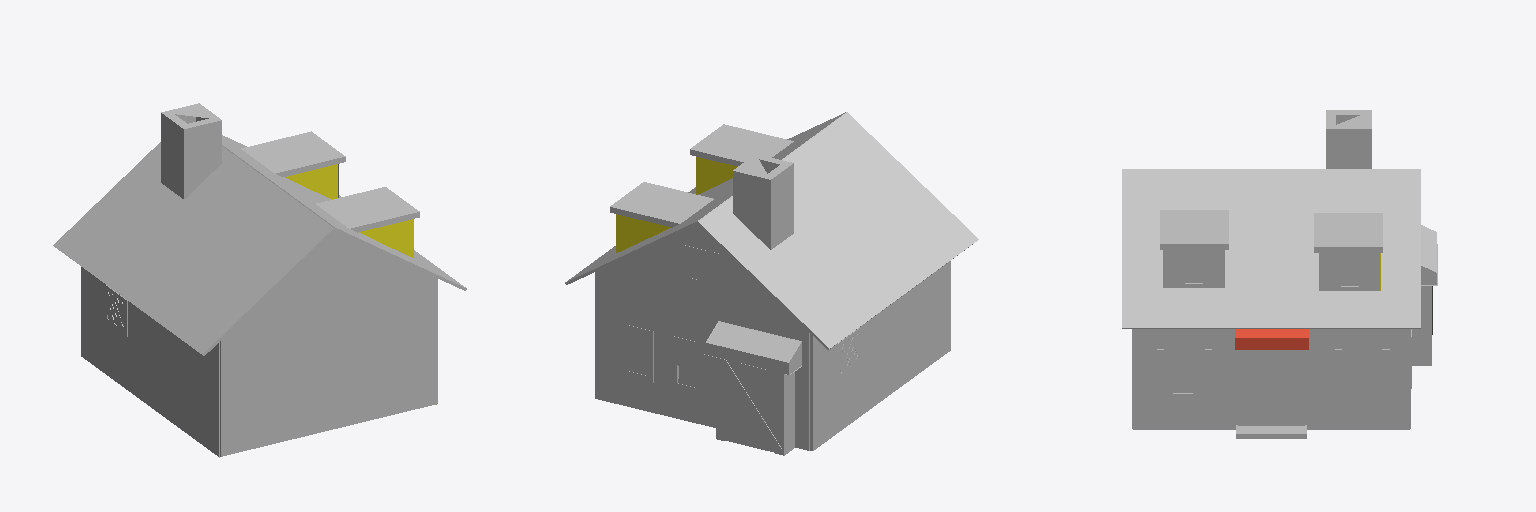
3 views of the same model, side by side, from view 1: azimuth 30°, elevation 25°; view 2: azimuth 150°, elevation 25°; view 3: azimuth 270°, elevation 25° (orthographic).
Parts seen in each view (by area): view 1: polySurface864; view 2: polySurface864; view 3: polySurface864.
Boxes of the visible parts, x1,y1,x2,y2 form: polySurface864: [53, 103, 466, 457]; polySurface864: [565, 112, 978, 455]; polySurface864: [1122, 110, 1437, 438].
Bounding box in the file's own units: 24.44 × 21.45 × 25.21.
Materials: 68 (10 with a texture image).